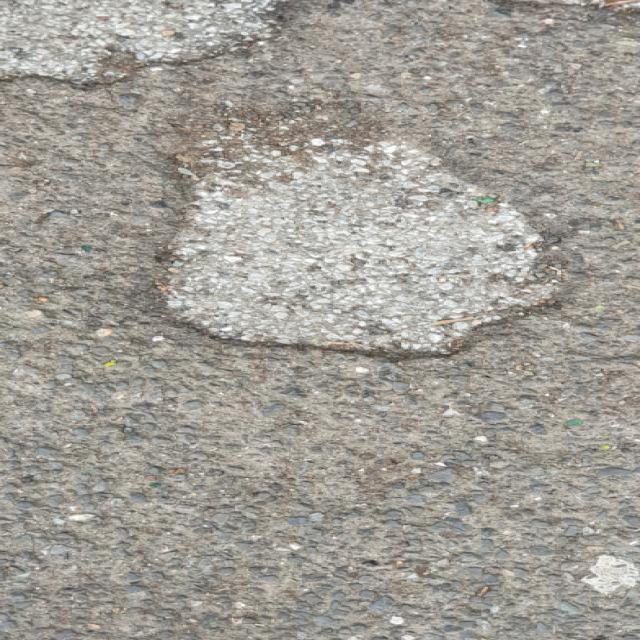pothole: (129, 110, 586, 363), (0, 0, 294, 94)
